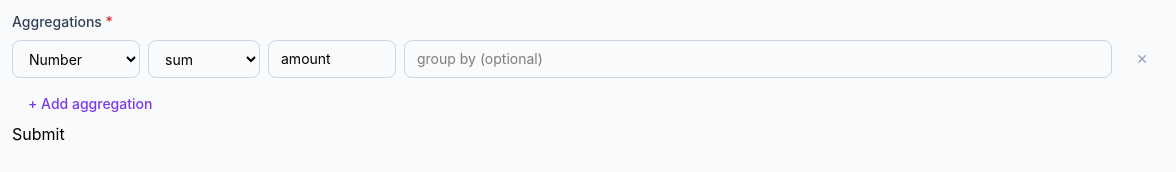
Test case: AggregationInput › removes a row
The image size is (1176, 172).
Check: the field with placeholder "field" is shown, box [268,40,396,78]
Click the button "✕" at coordinates (1142, 59), box [1120,40,1164,78]
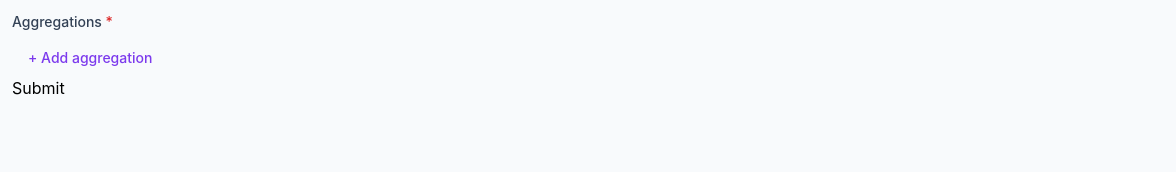
Check: the dropdown with placeholder "field" is gone
